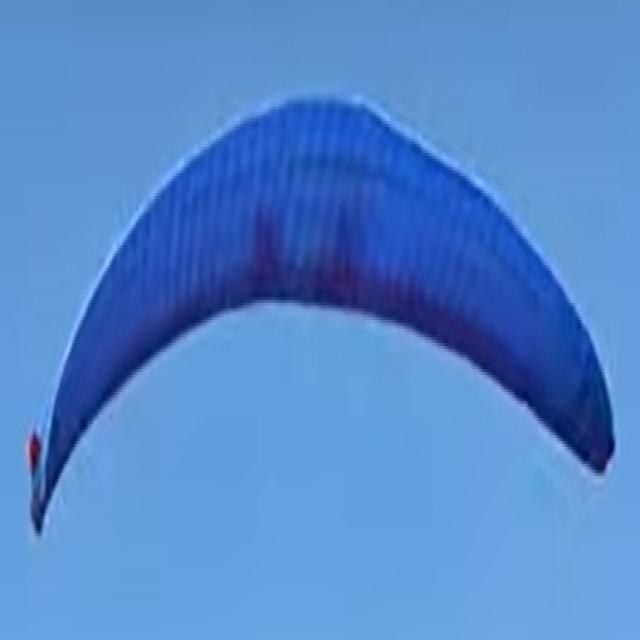paraglider: (27, 87, 616, 536)
